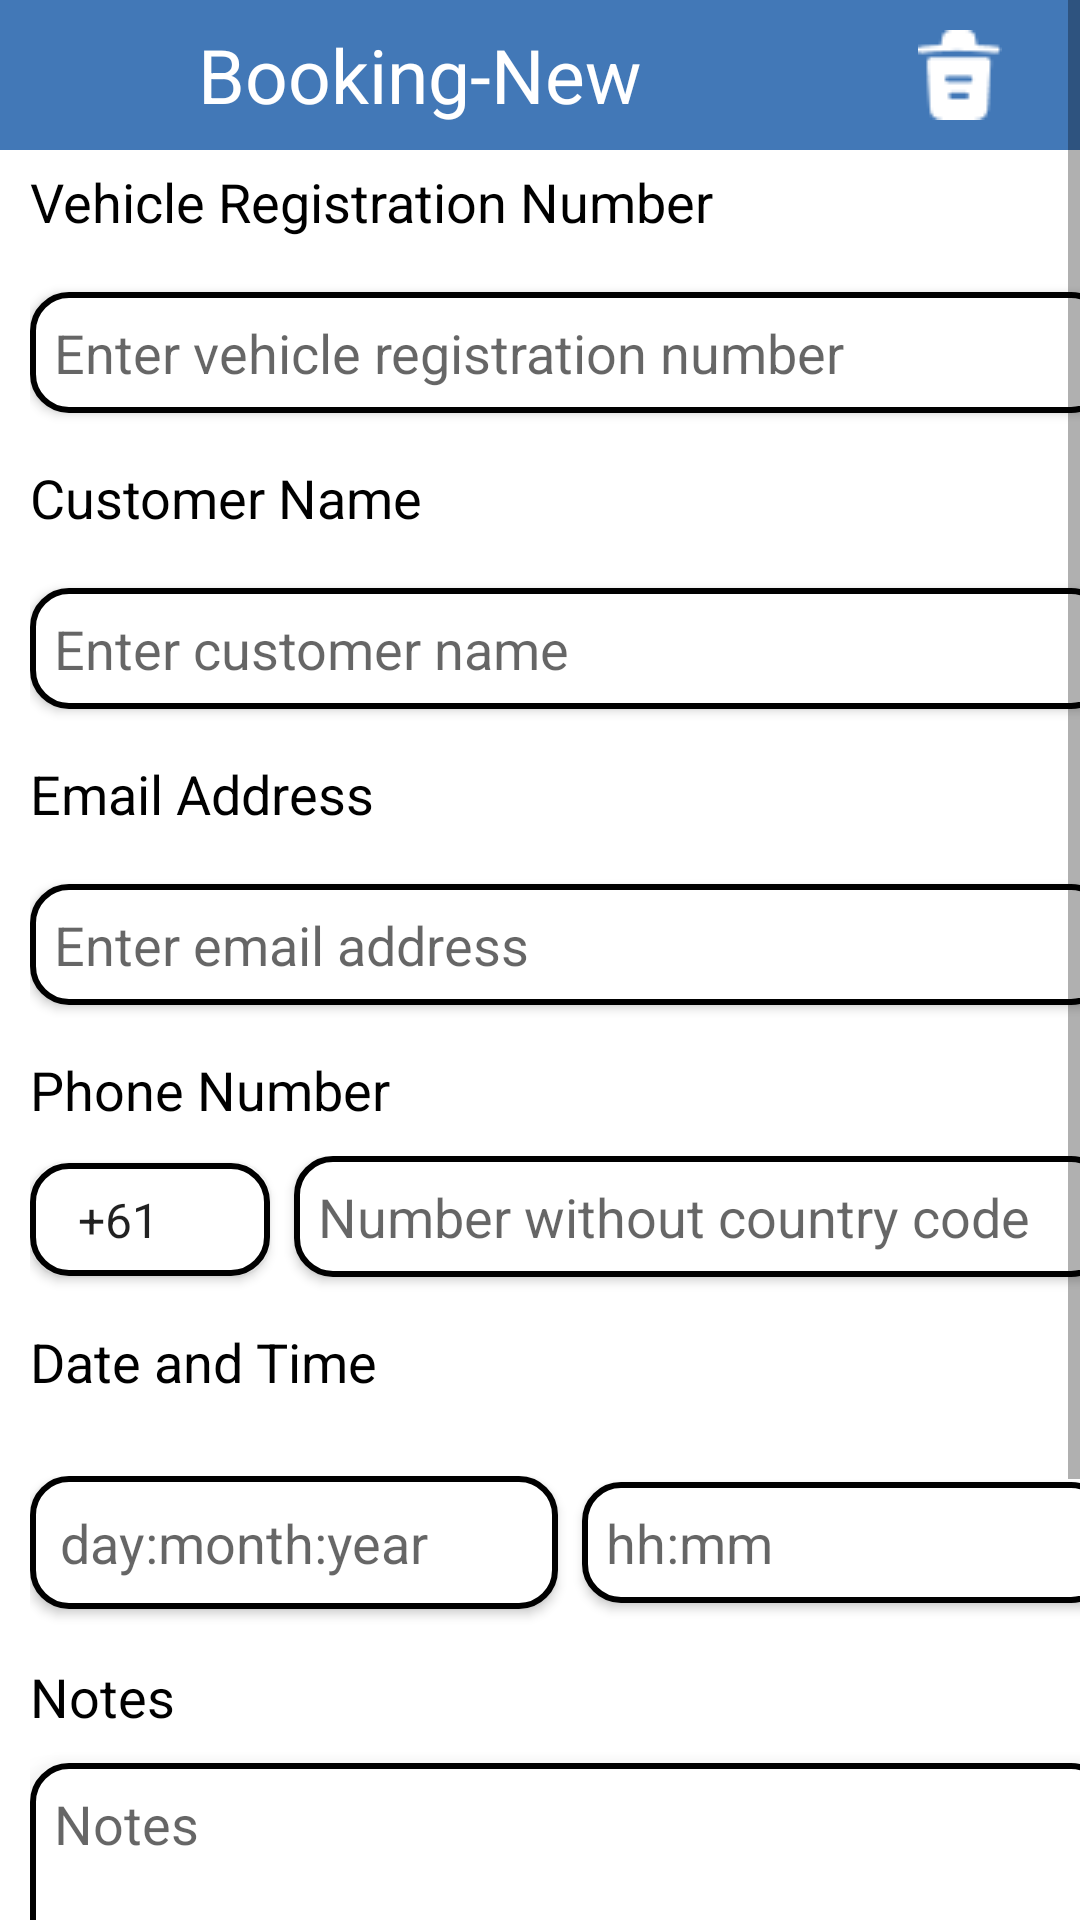

Locate icon controls on the screen. Image size 1080 x 1920, boxes as [left=x1, top=y1, right=x2, bottom=y2].
delete: [left=918, top=30, right=1002, bottom=120]
